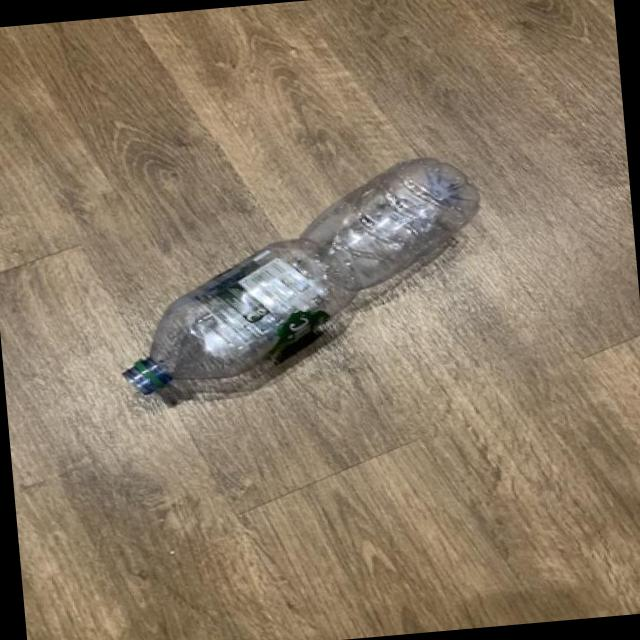plastic_bottle: (106, 152, 498, 400)
